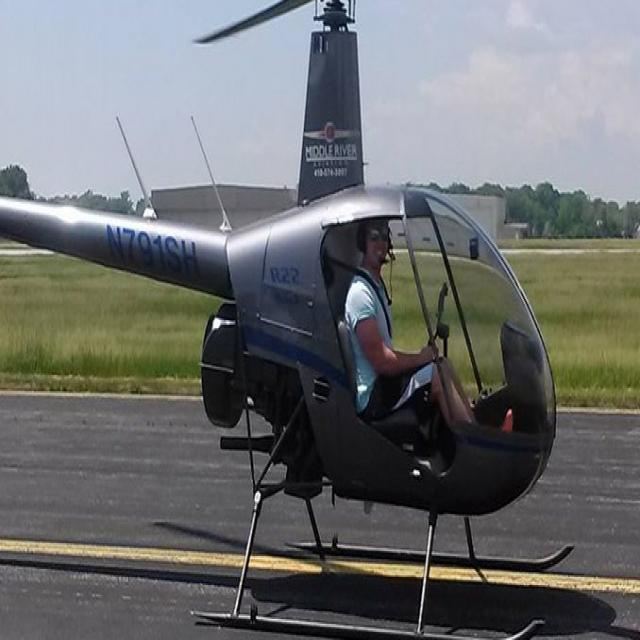helicopter: (1, 14, 578, 640)
